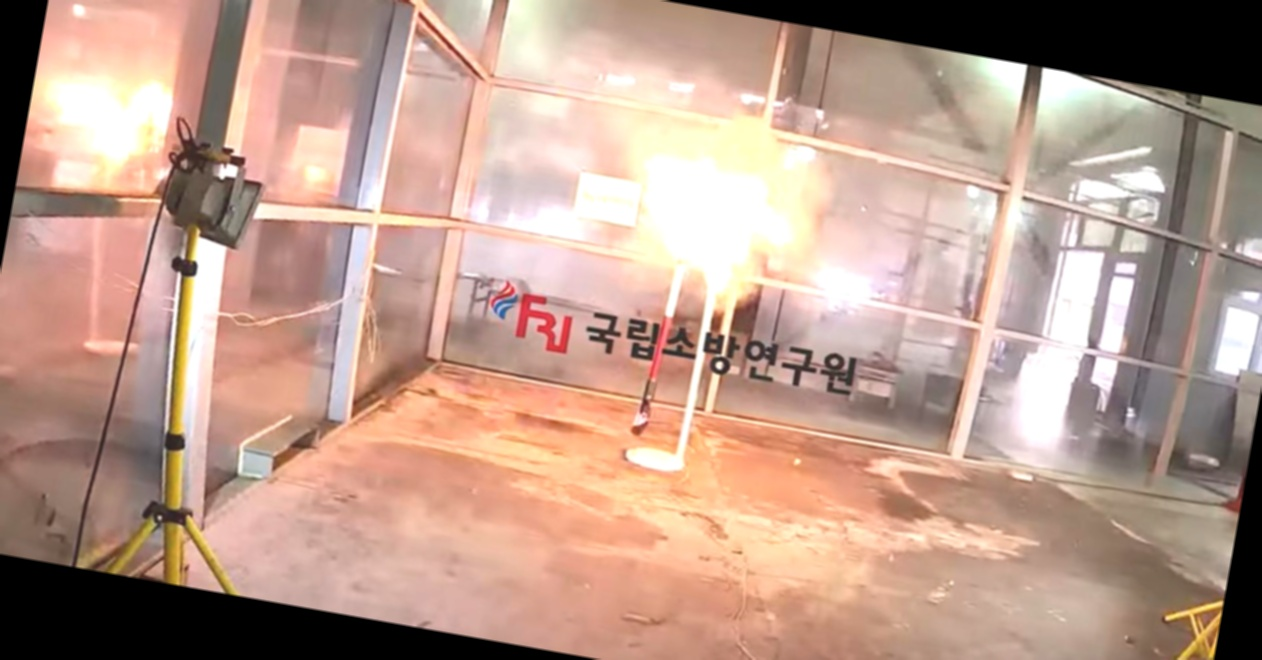fire: (624, 91, 833, 306), (29, 39, 184, 192)
